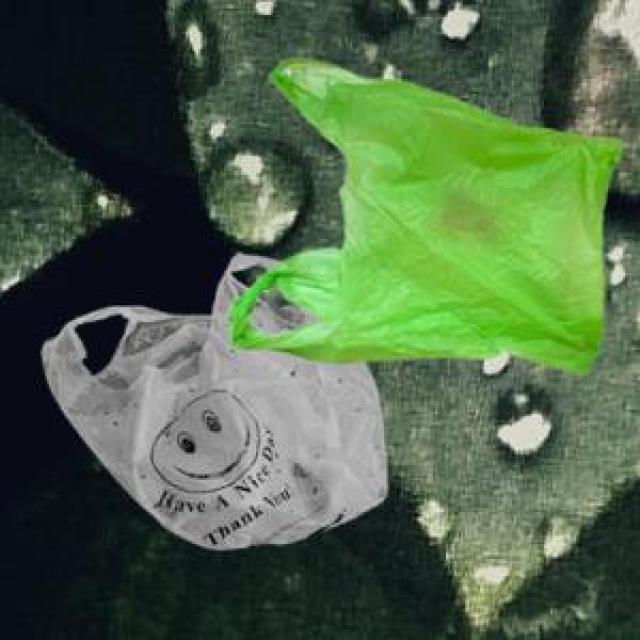waste: (42, 59, 621, 549)
